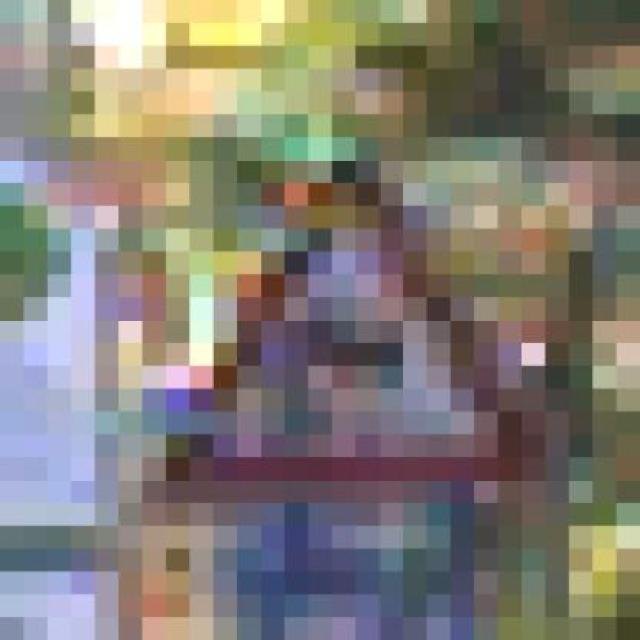Slippery Road Ahead: (142, 91, 546, 526)
